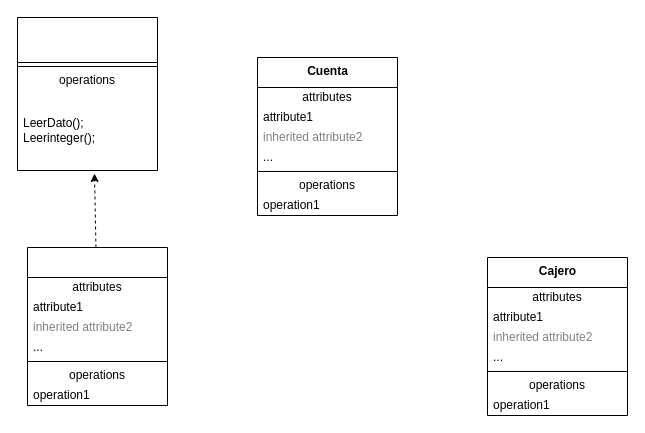
Some shapes in this 645 by 433 pixel diagram are drawn without their labels. Here are the shapes that lost their labels. From the top down, the box of each, then its label:
(16, 16, 158, 170): <<Interfaz>> Lectura
(26, 246, 168, 406): LecturaTerminal
